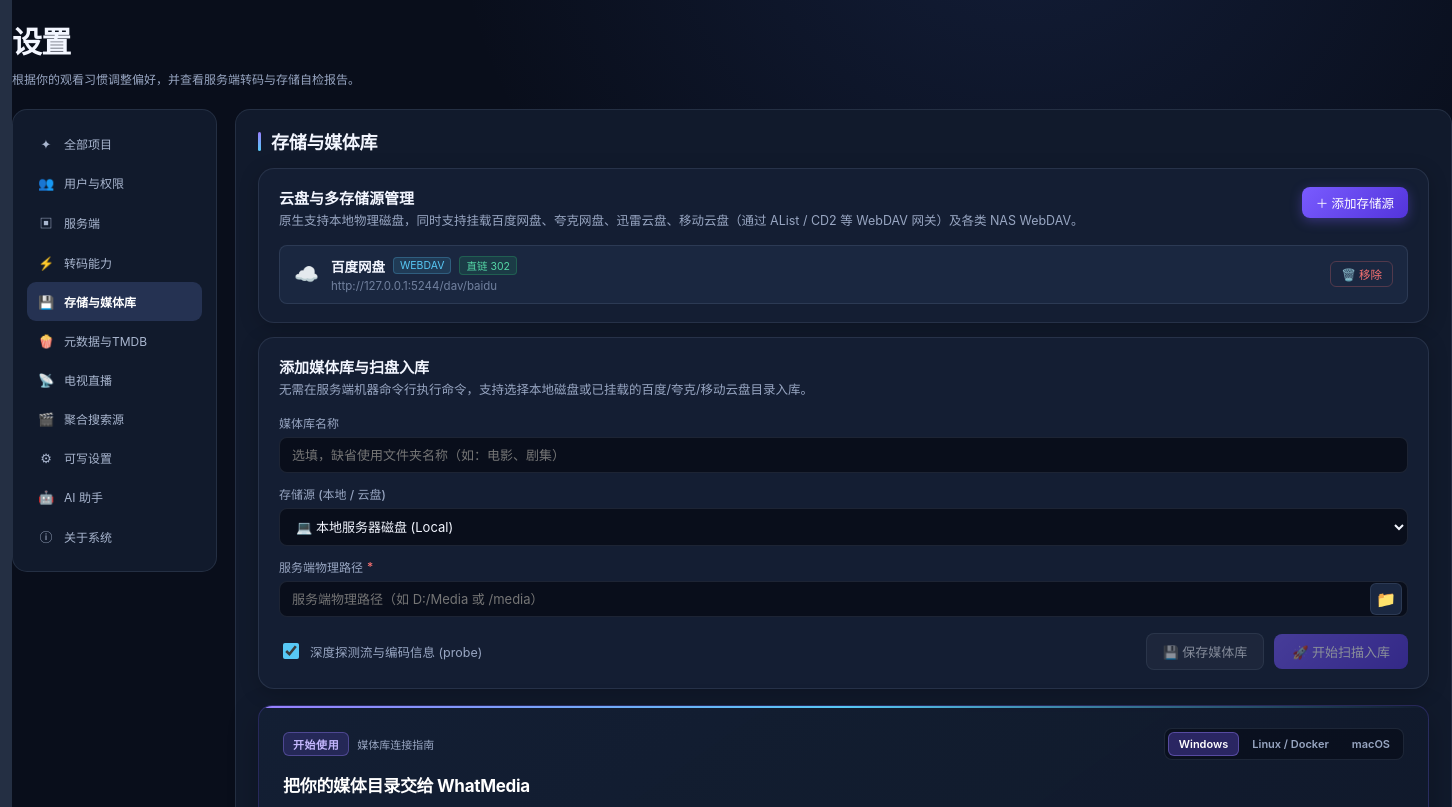
Test: SettingsView › 保存媒体库时若选择云盘存储源，正确携带 storage_provider 参数
Select "☁️ 百度网盘 (WEBDAV)" in the dropdown at {"x": 844, "y": 526}, box [279,508,1408,546]
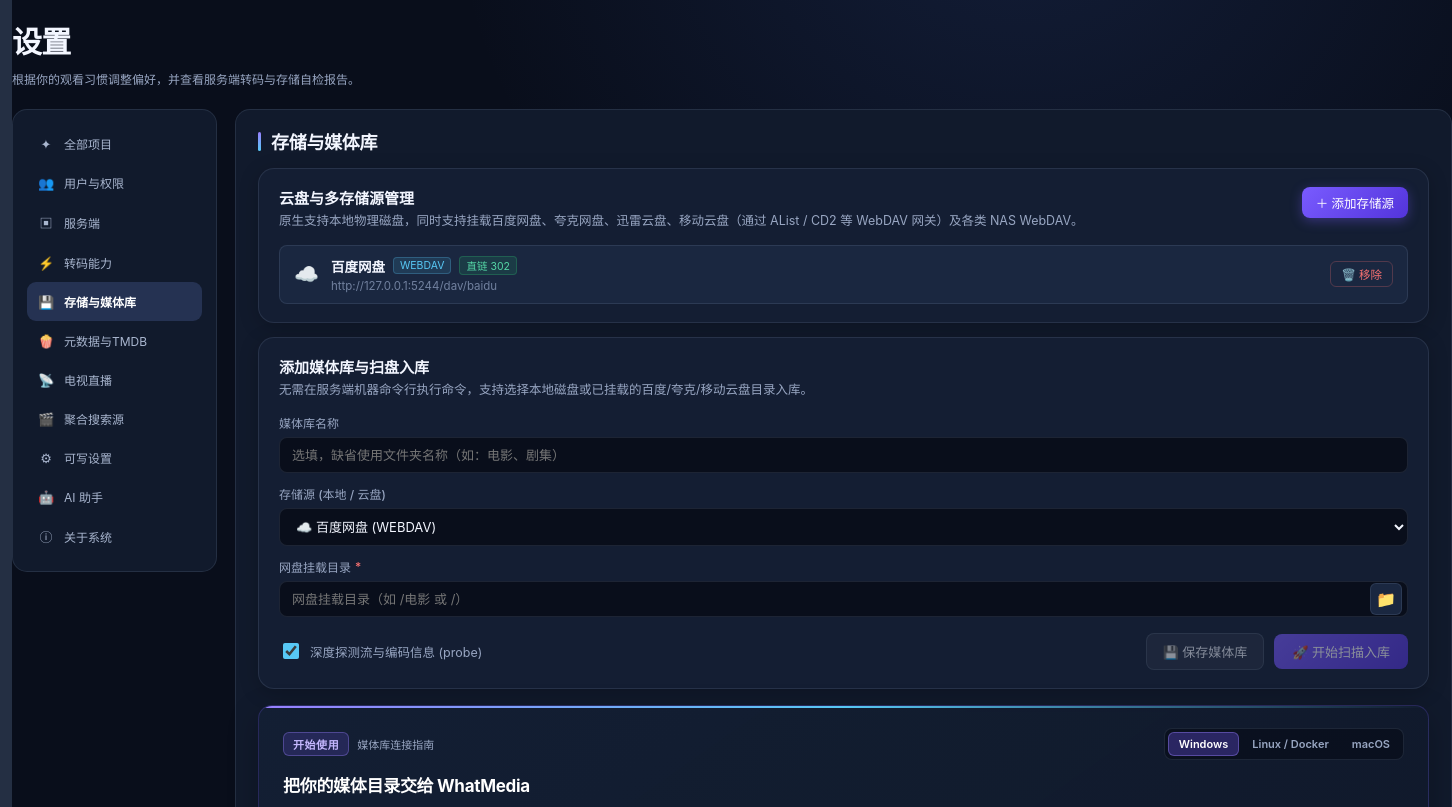
Type "/电影" into the field with placeholder "网盘挂载目录（如 /电影 或 /）" at {"x": 844, "y": 598}, box [279,580,1408,616]
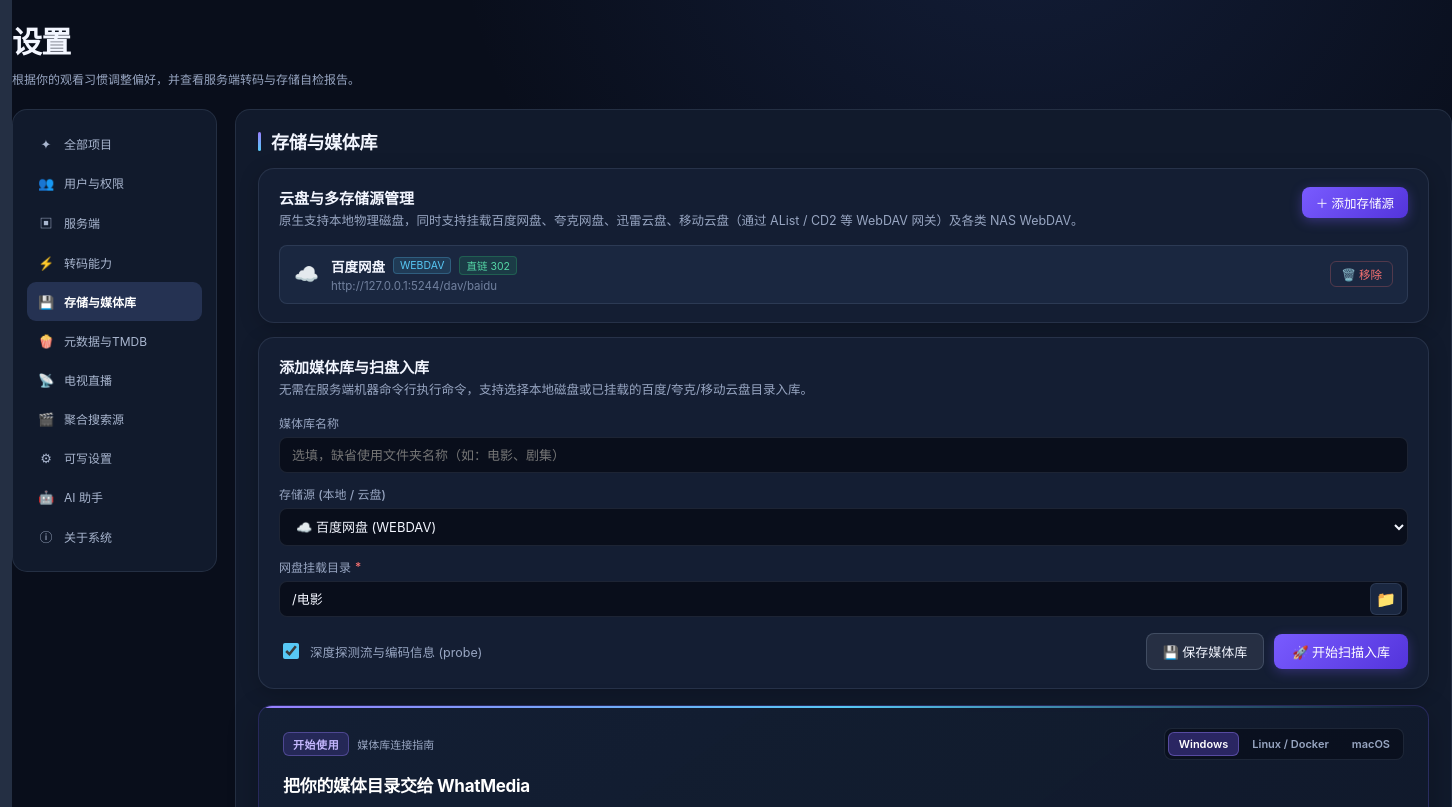
Note:  点击保存媒体库
Click the button with class "btn-save-lib" at {"x": 1205, "y": 651}, box [1146,632,1264,670]
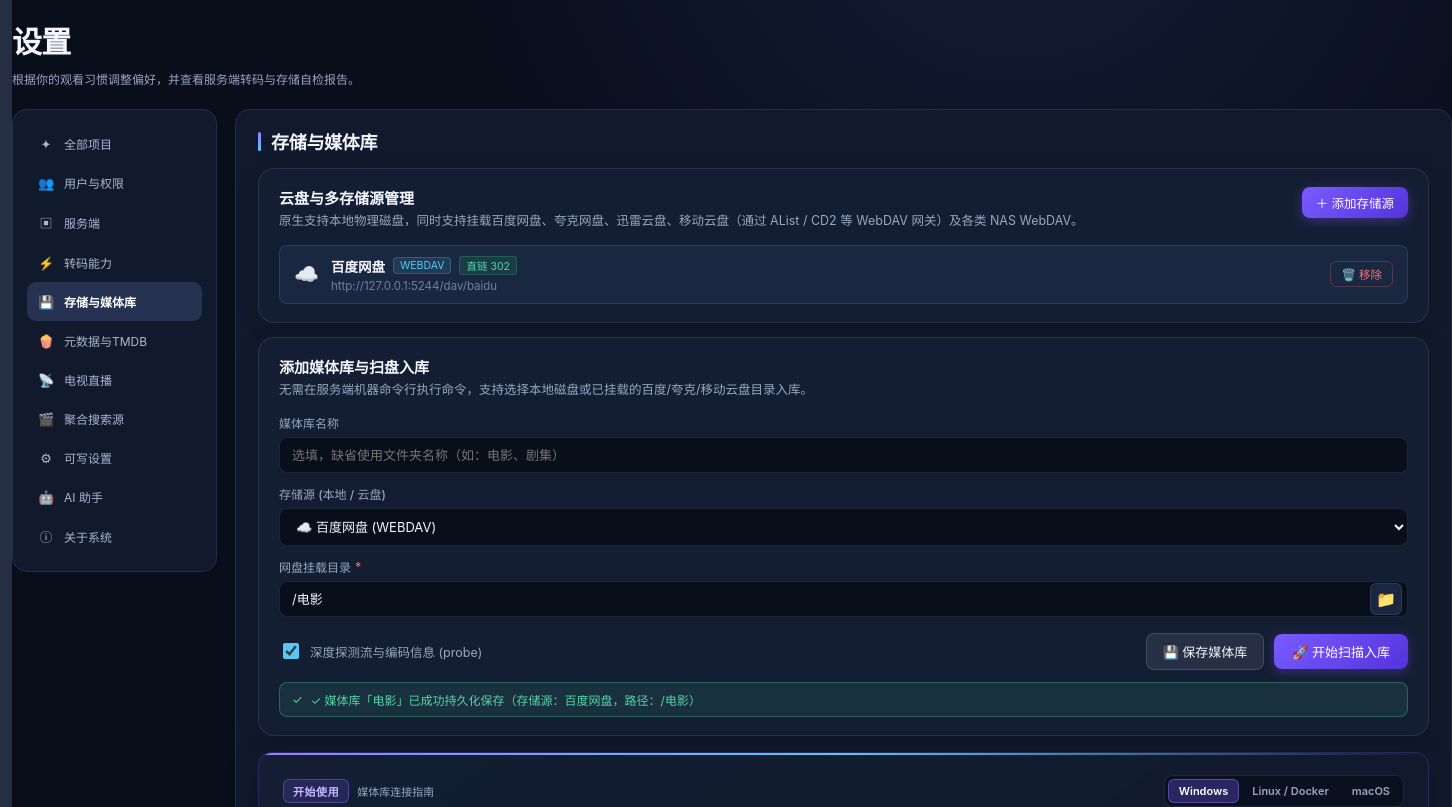
Expected: the text "百度网盘" is shown, [279,213,1084,228]
Expected: the text "已成功持久化保存" is shown, [311,692,701,708]
